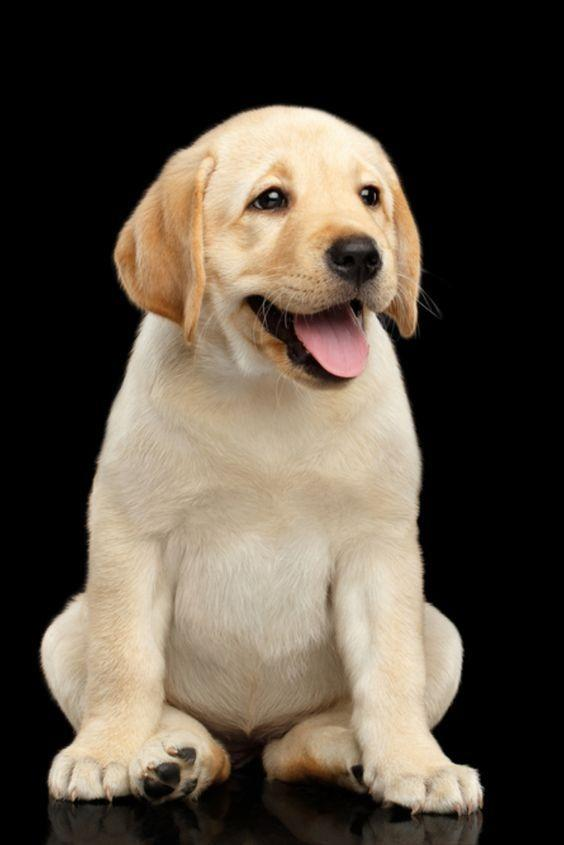puppy-dog: (41, 106, 483, 814)
